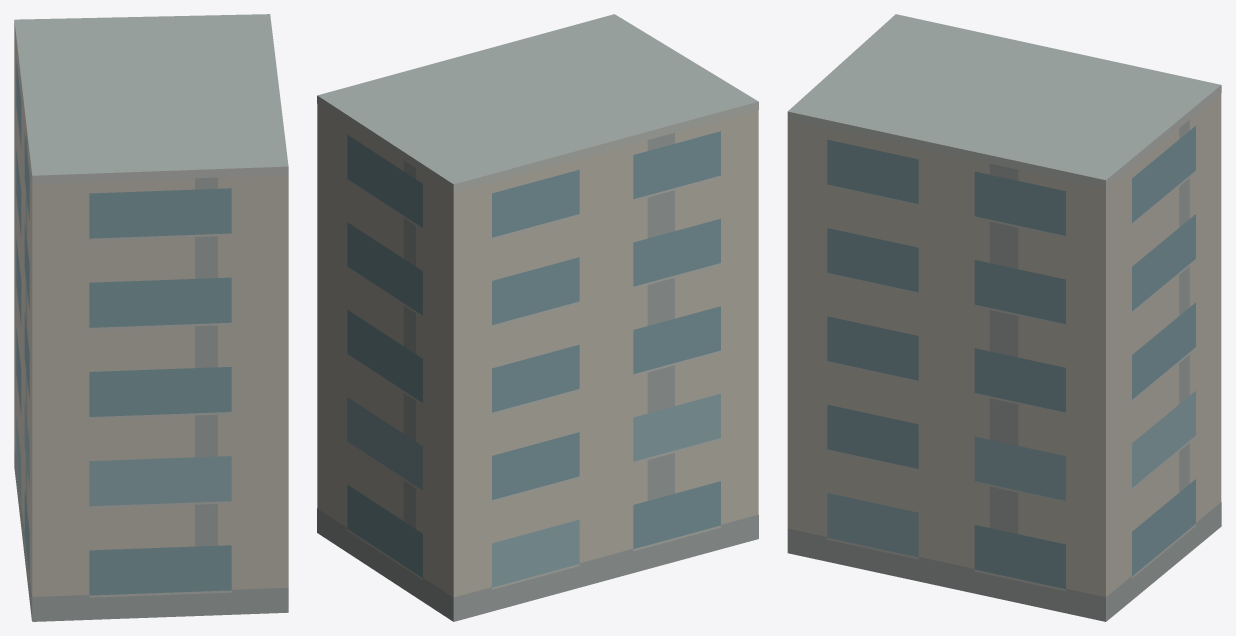
File: survey-upis-32729585.glb
3 renders of one model, left to right at view 1: azimuth 30°, elevation 25°; view 2: azimuth 150°, elevation 25°; view 3: azimuth 270°, elevation 25°, orthographic.
Visible parts, largest first — view 1: survey-upis-32729585.tmp; view 2: survey-upis-32729585.tmp; view 3: survey-upis-32729585.tmp.
Part boxes in pixels (x1,y1,x2,y2): survey-upis-32729585.tmp: [14, 14, 288, 621]; survey-upis-32729585.tmp: [317, 14, 758, 621]; survey-upis-32729585.tmp: [787, 14, 1221, 621].
Size of the model in its own units: 10.34 by 12.8 by 11.41.
